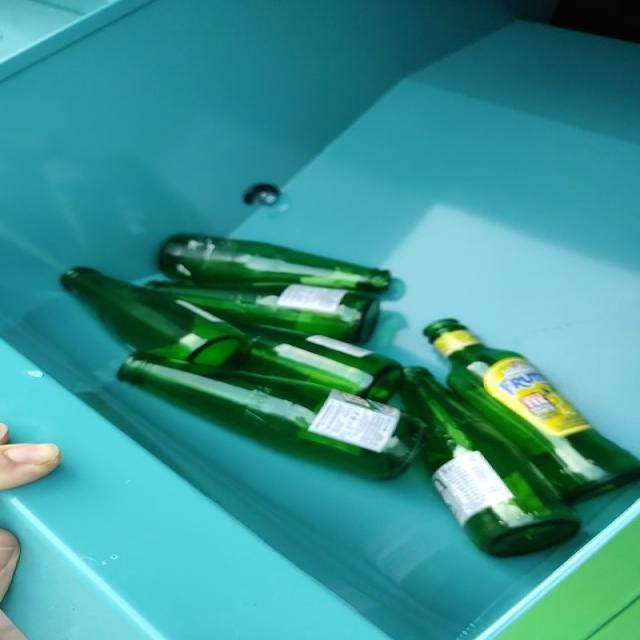Glass: (60, 235, 640, 557)
